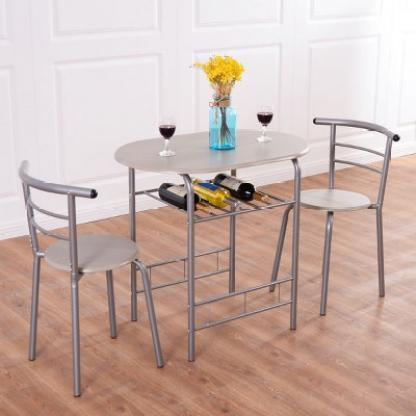chair: (9, 157, 167, 404), (271, 113, 412, 321)
table: (114, 117, 306, 364)
